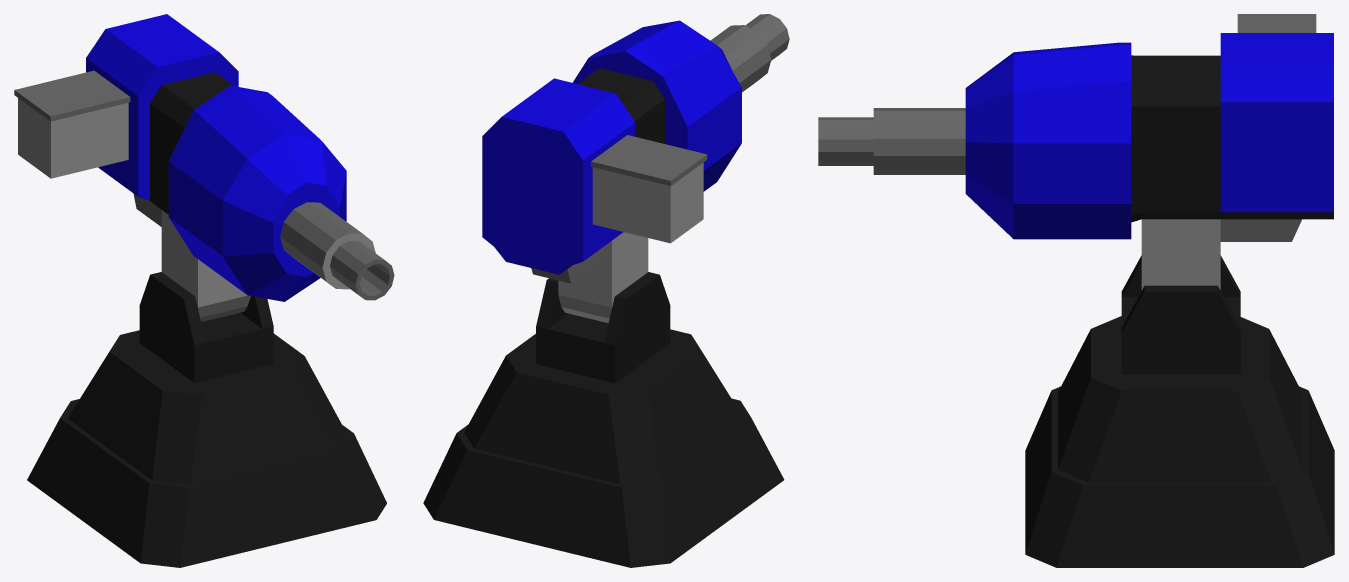
The model's file is Defence_Turrent_Human.FBX.
The picture shows the model from 3 angles, left to right: view 1: azimuth 30°, elevation 25°; view 2: azimuth 150°, elevation 25°; view 3: azimuth 270°, elevation 25°; orthographic projection. The views are drawn at different scales.
Visible parts, largest first — view 1: Base, Gun; view 2: Base, Gun; view 3: Gun, Base.
Part boxes in pixels (x1=…): Base: x1=27, y1=272, x2=386, y2=567; Gun: x1=14, y1=14, x2=394, y2=321; Base: x1=423, y1=272, x2=784, y2=567; Gun: x1=482, y1=14, x2=789, y2=323; Gun: x1=818, y1=14, x2=1333, y2=290; Base: x1=1025, y1=255, x2=1334, y2=567.
Size of the model in its own units: 102 by 163 by 167.
